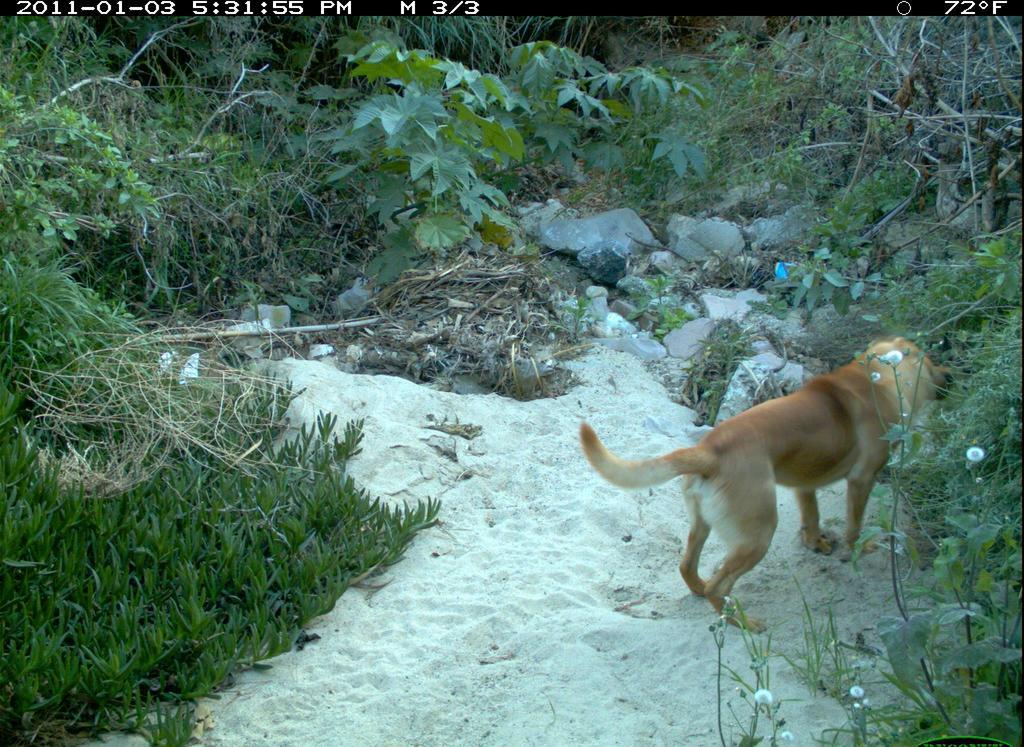dog: (566, 331, 966, 642)
